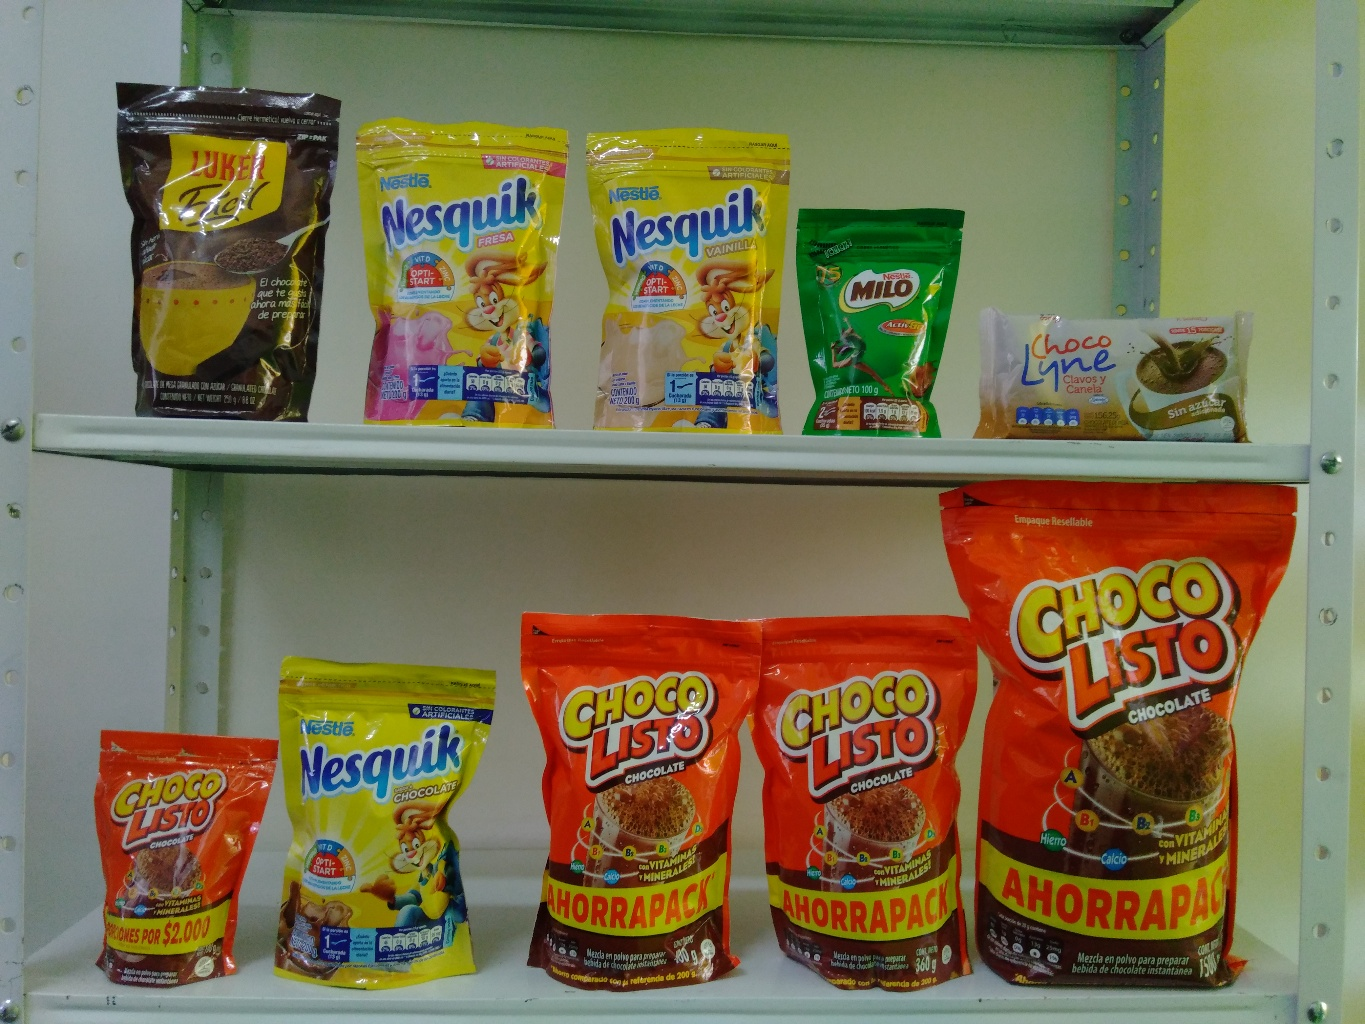COL0170103DYP1,500: (932, 464, 1300, 1011)
COL0170103DYP10000: (85, 722, 269, 987)
COL0170103DYP36000: (745, 605, 976, 985)
COL0170103DYP40000: (496, 599, 771, 1008)
COL0170203DYP10000: (800, 194, 966, 442)
COL0170303DYP20000: (241, 651, 509, 994)
COL0170305DYP20000: (344, 112, 585, 432)
COL0170306DYP20000: (575, 120, 797, 438)
